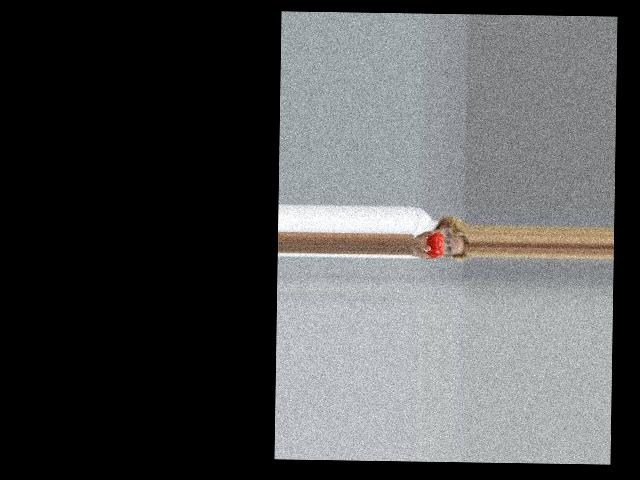tomato: (426, 231, 443, 257)
